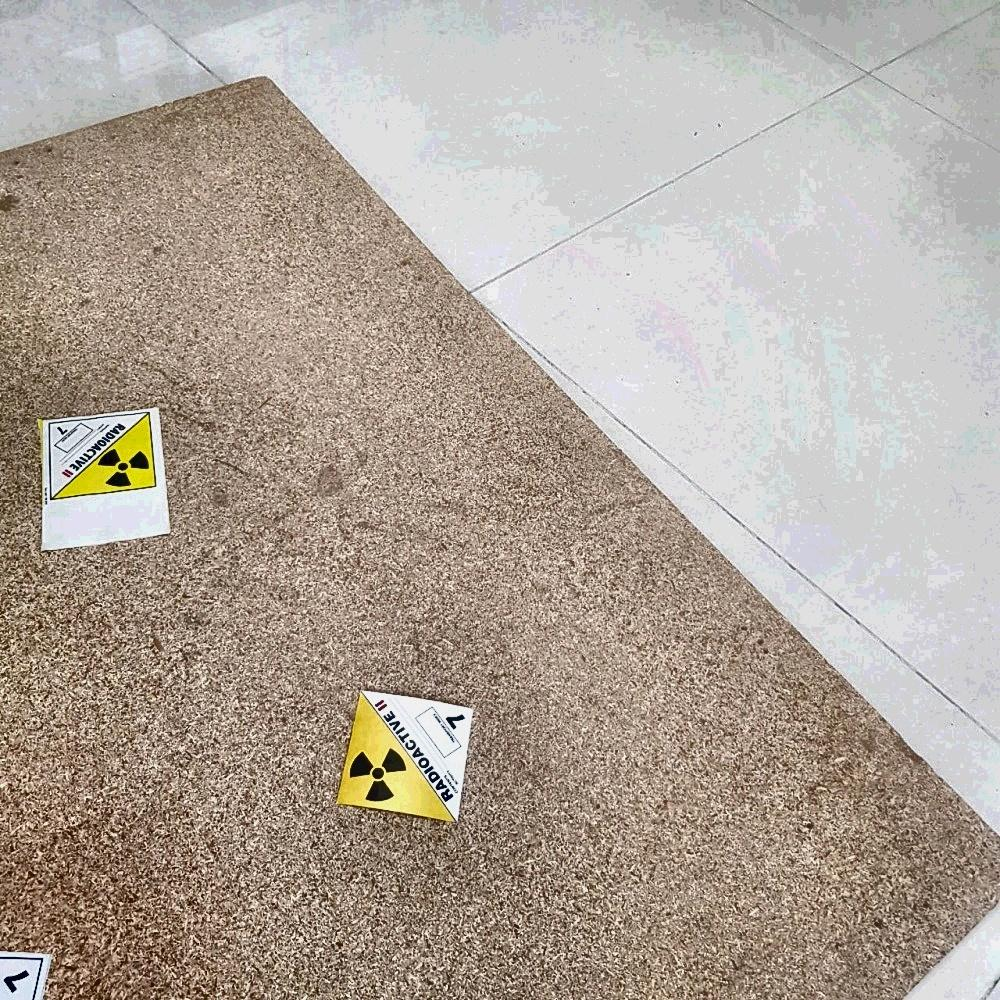radioactive: (334, 689, 477, 833), (42, 409, 158, 502)
